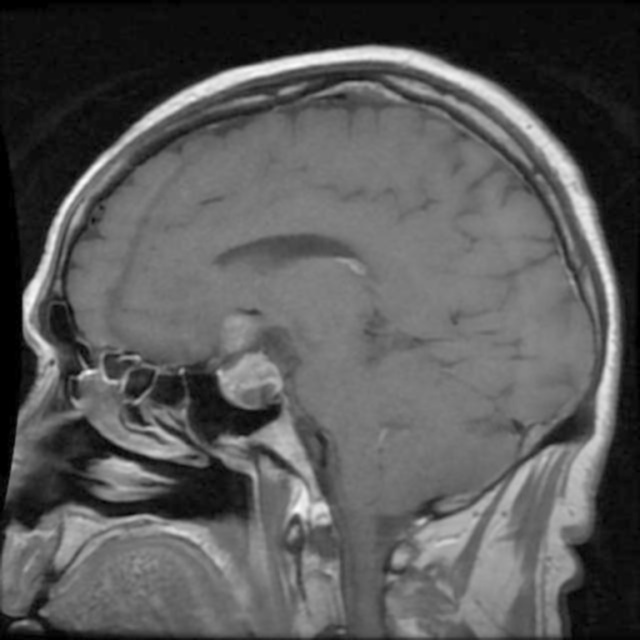no tumor: (208, 315, 288, 410)
